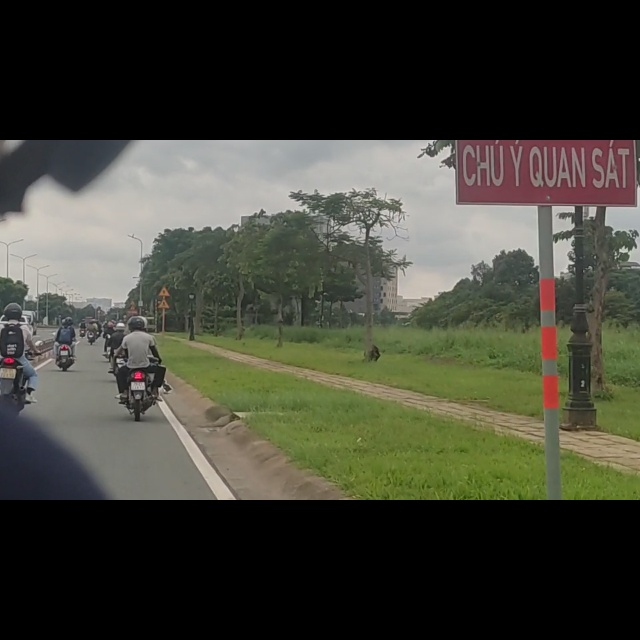bien_nguy_hiem: (157, 258, 171, 279), (157, 282, 170, 301)
